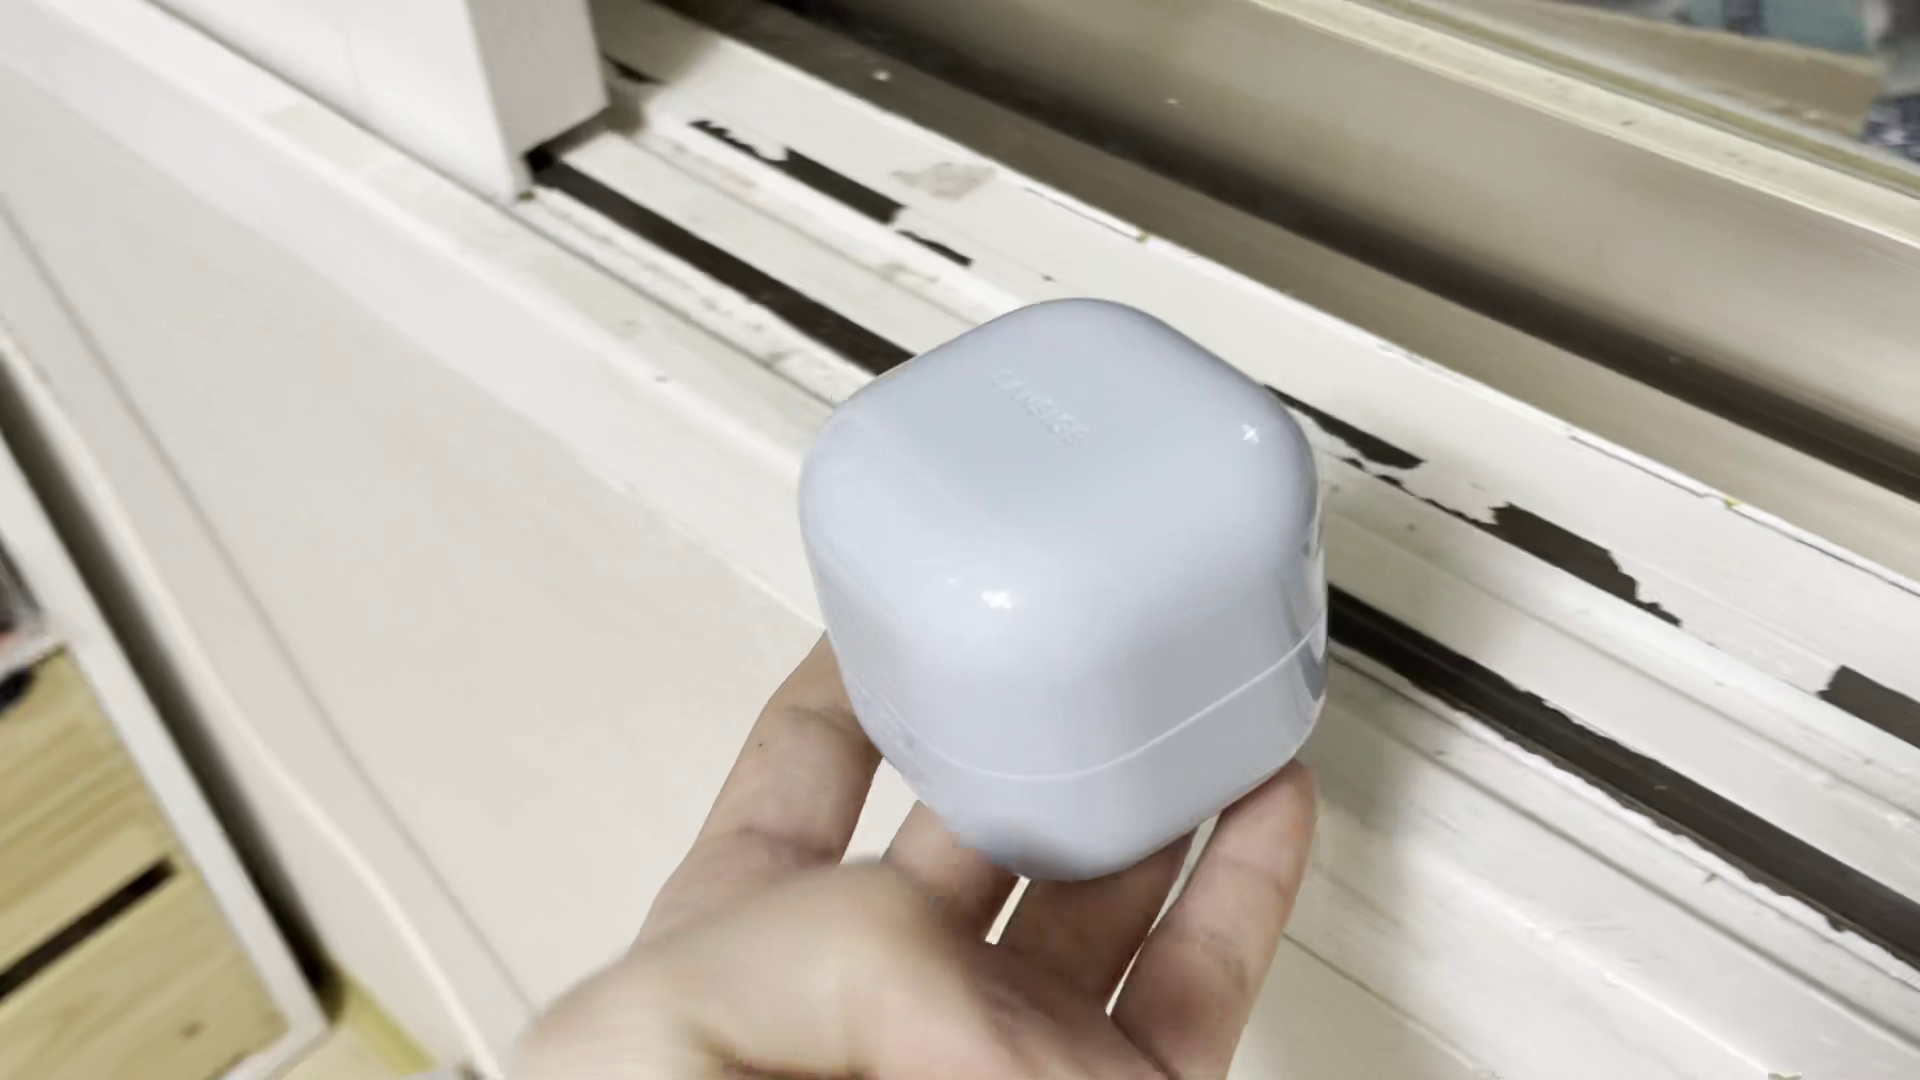cream: (804, 295, 1320, 876)
